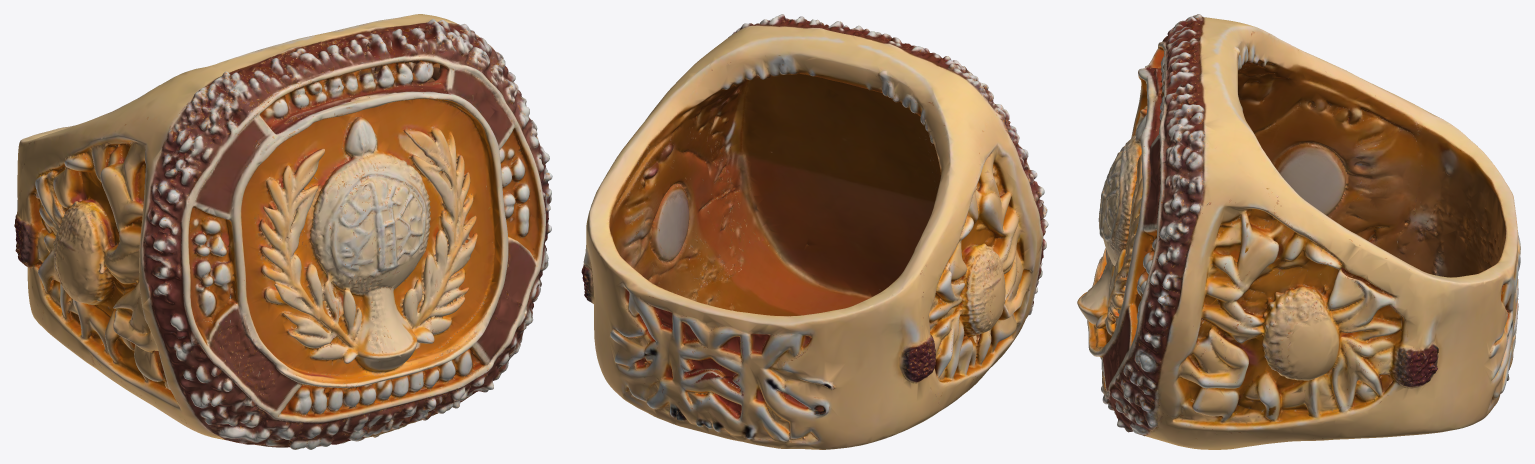
File: ring-2025.glb
The picture shows the model from 3 angles, left to right: view 1: azimuth 30°, elevation 25°; view 2: azimuth 150°, elevation 25°; view 3: azimuth 270°, elevation 25°; orthographic projection. The views are drawn at different scales.
Bounding box in the file's own units: 2 × 1.72 × 1.95.
Materials: 1 (1 with a texture image).
